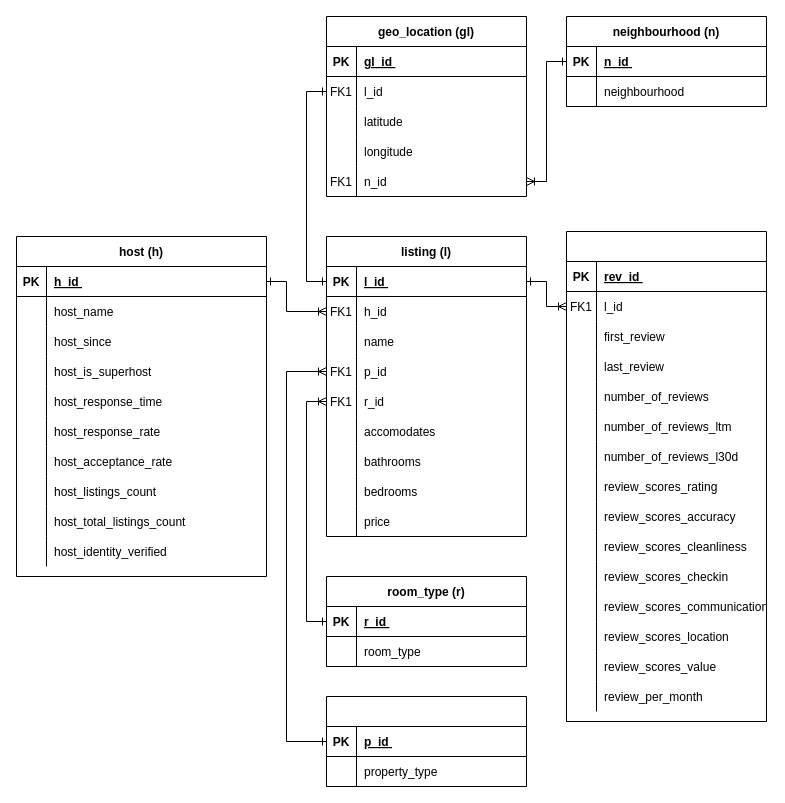
Some shapes in this 785 by 803 pixel diagram are drawn without their labels. Here are the shapes that lost their labels. From the top down, the box of each, then its label:
(566, 230, 766, 722): review (r)
(326, 696, 526, 786): property_type (p)
